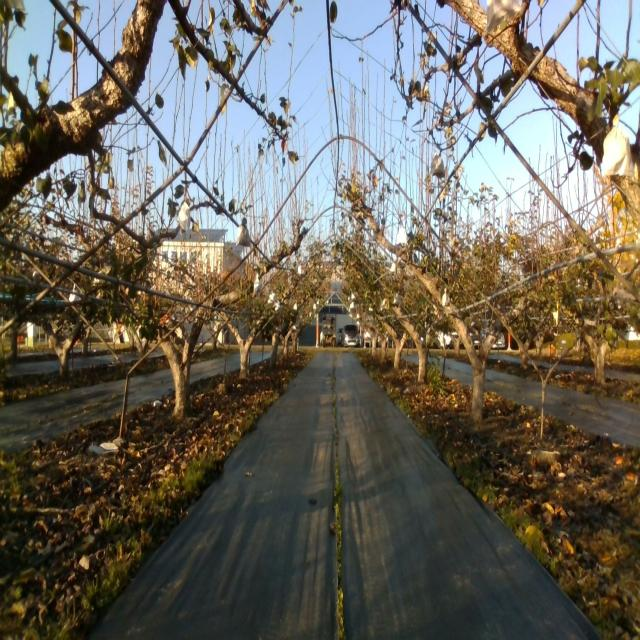pearbags: (600, 114, 636, 179), (430, 152, 445, 178), (179, 202, 191, 233), (236, 224, 251, 248)
